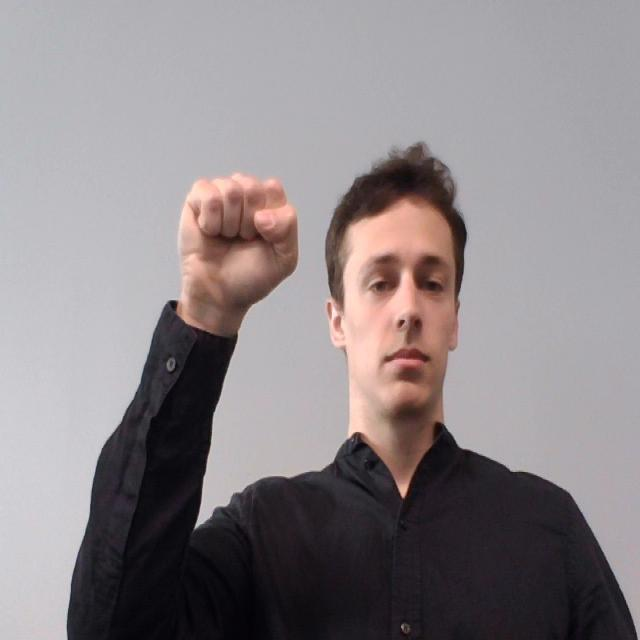stop: (175, 170, 305, 328)
